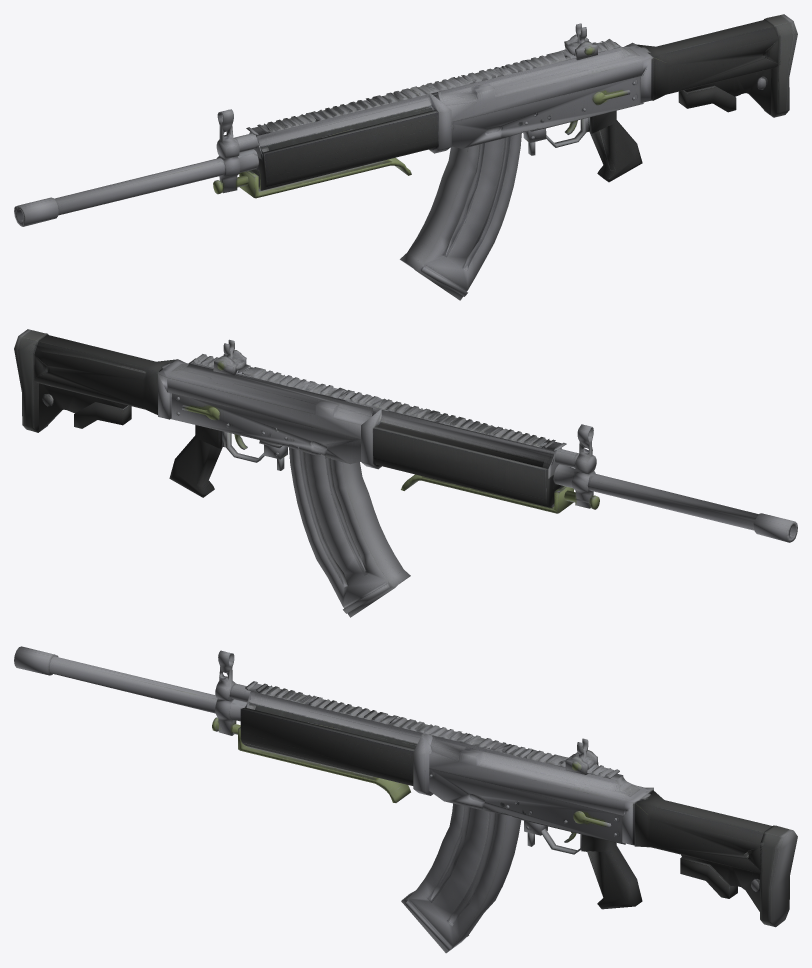
The model's file is lmg_rampart.glb.
3 views of the same model, one above another, from view 1: azimuth 30°, elevation 25°; view 2: azimuth 150°, elevation 25°; view 3: azimuth 330°, elevation 25° (orthographic).
Bounding box in the file's own units: 0.9575 × 0.2866 × 0.0547.
Materials: 1 (1 with a texture image).
